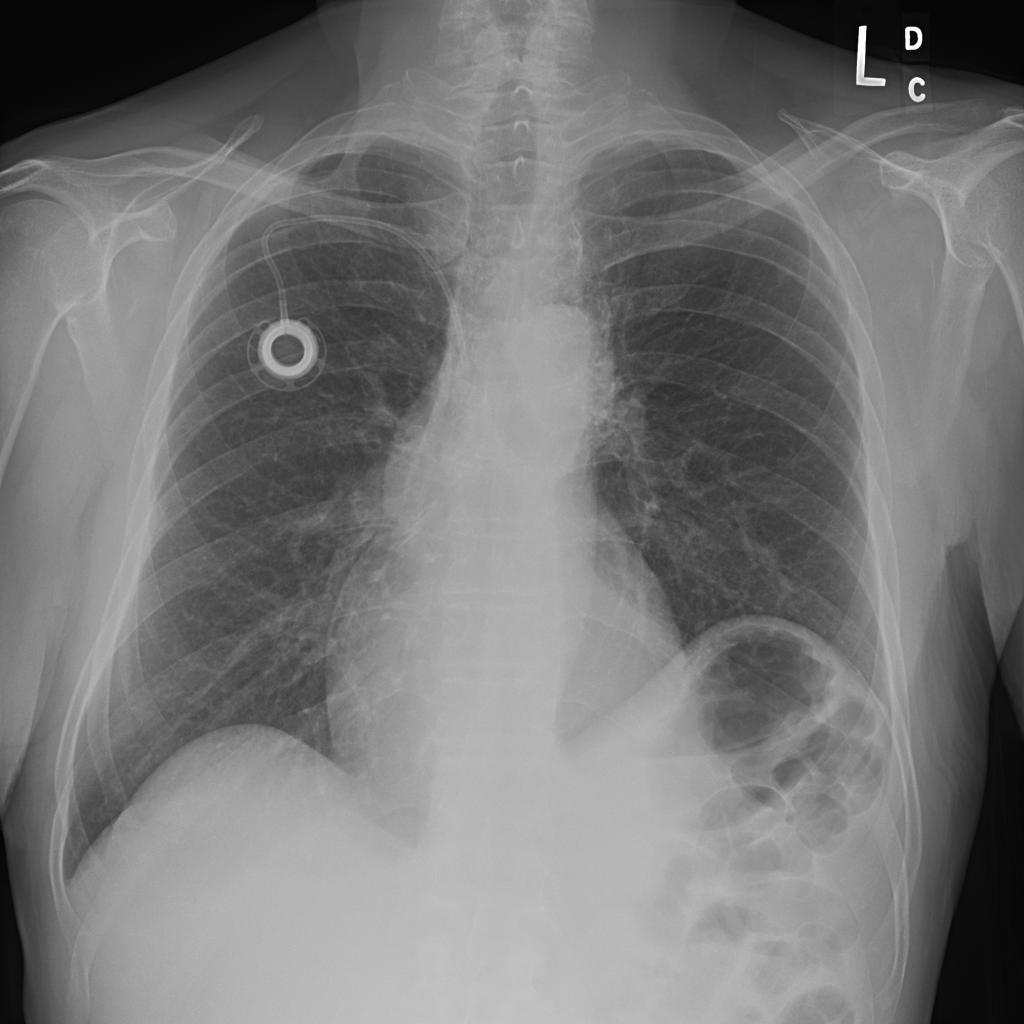Nodule: (383, 125, 413, 154), (299, 141, 317, 163)
